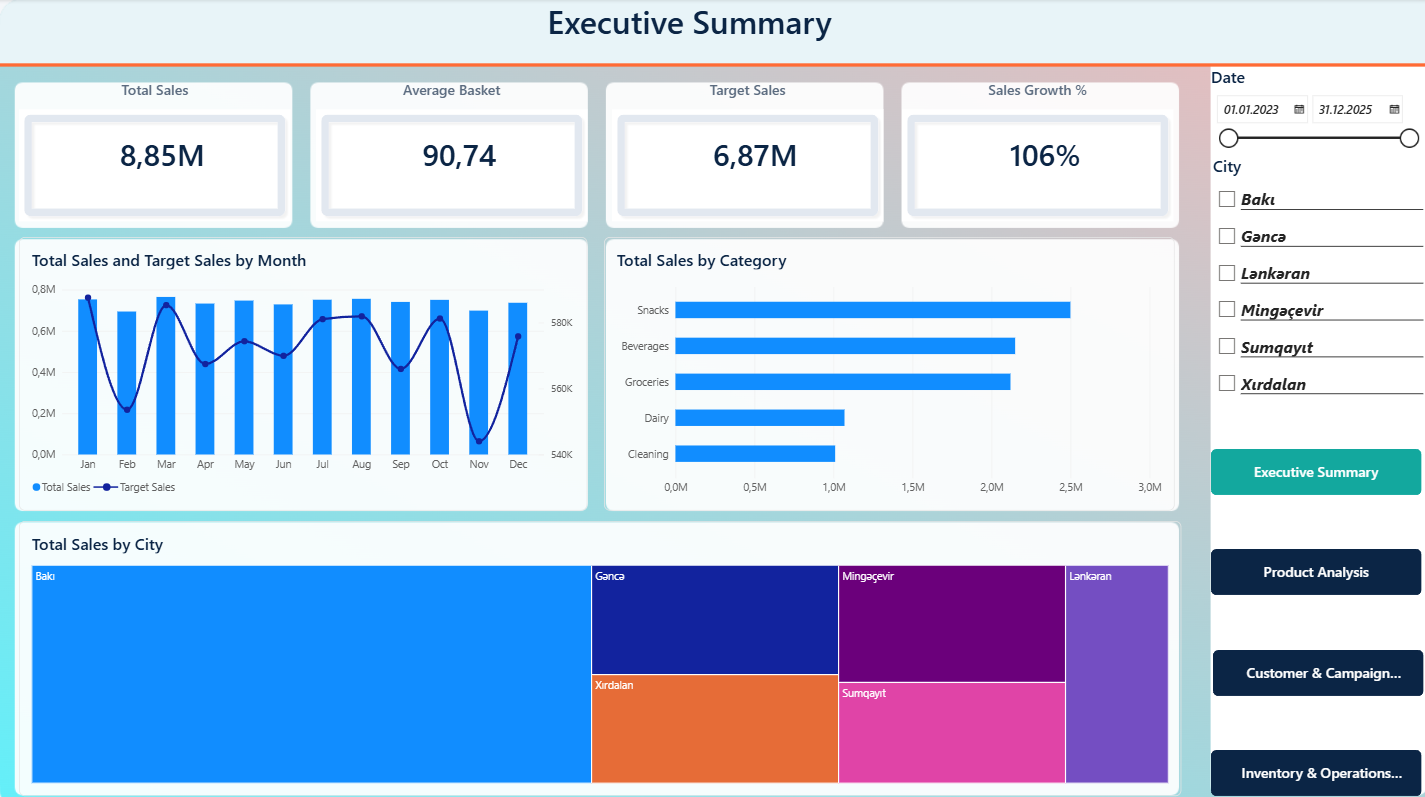

The dashboard page shown, as its layout file describes it:
{"tool":"powerbi","page":{"name":"Executive Summary","canvas":[1920,1080],"ordinal":0},"visuals":[{"type":"cardVisual","title":"Total Sales","fields":{"Data":["Ölçülər.Total Sales"]},"box":[27.1,107.1,361.2,188.8],"z":0},{"type":"cardVisual","title":"Target Sales","fields":{"Data":["Ölçülər.Target Sales"]},"box":[814.8,107.1,361,188],"z":1000},{"type":"cardVisual","title":"Sales Growth %","fields":{"Data":["Ölçülər.Sales Growth %"]},"box":[1201.4,107.1,361,188],"z":2000},{"type":"cardVisual","title":"Average Basket","fields":{"Data":["Ölçülər.Average Basket"]},"box":[421.1,107.5,361,188],"z":3000},{"type":"actionButton","title":"OVERVIEW","box":[1614.3,865.2,280,61.4],"z":4000},{"type":"actionButton","title":"OVERVIEW","box":[1611.4,598.6,280,61.4],"z":5000},{"type":"actionButton","title":"OVERVIEW","box":[1611.4,998.6,280,61.4],"z":6000},{"type":"textbox","box":[588.8,0,658.8,88.8],"z":7000},{"type":"lineClusteredColumnComboChart","title":"Total Sales and Target Sales by Month","fields":{"Category":["DimDate.MonthName"],"Y":["Ölçülər.Total Sales"],"Y2":["Ölçülər.Target Sales"]},"box":[27.1,317.1,755.7,364.3],"z":8000},{"type":"clusteredBarChart","title":"Total Sales by Category","fields":{"Category":["DimProduct.Category"],"Y":["Ölçülər.Total Sales"]},"box":[804.3,317.1,758.6,364.3],"z":9000},{"type":"treemap","title":"Total Sales by City","fields":{"Group":["DimStore.City"],"Values":["Ölçülər.Total Sales"]},"box":[27.1,694.3,1545.7,365.7],"z":10000},{"type":"slicer","title":"Date","fields":{"Values":["DimDate.Date"]},"box":[1611.4,88.6,280,112.9],"z":11000},{"type":"slicer","title":"City","fields":{"Values":["DimStore.City"]},"box":[1614.3,207.1,280,332.9],"z":12000},{"type":"actionButton","title":"OVERVIEW","box":[1611.4,731.9,280,61.4],"z":13000}]}

Visuals, with their boxes in screenshot pixels (x1, y1, x2, y2), scaled from the page's 1920x1080 canvas onto the 1425x797 screenshot:
"Total Sales" cardVisual: bbox=[20, 79, 288, 218]
"Target Sales" cardVisual: bbox=[605, 79, 873, 218]
"Sales Growth %" cardVisual: bbox=[892, 79, 1160, 218]
"Average Basket" cardVisual: bbox=[313, 79, 580, 218]
"OVERVIEW" actionButton: bbox=[1198, 638, 1406, 684]
"OVERVIEW" actionButton: bbox=[1196, 442, 1404, 487]
"OVERVIEW" actionButton: bbox=[1196, 737, 1404, 782]
textbox: bbox=[437, 0, 926, 66]
"Total Sales and Target Sales by Month" lineClusteredColumnComboChart: bbox=[20, 234, 581, 503]
"Total Sales by Category" clusteredBarChart: bbox=[597, 234, 1160, 503]
"Total Sales by City" treemap: bbox=[20, 512, 1167, 782]
"Date" slicer: bbox=[1196, 65, 1404, 149]
"City" slicer: bbox=[1198, 153, 1406, 398]
"OVERVIEW" actionButton: bbox=[1196, 540, 1404, 585]
